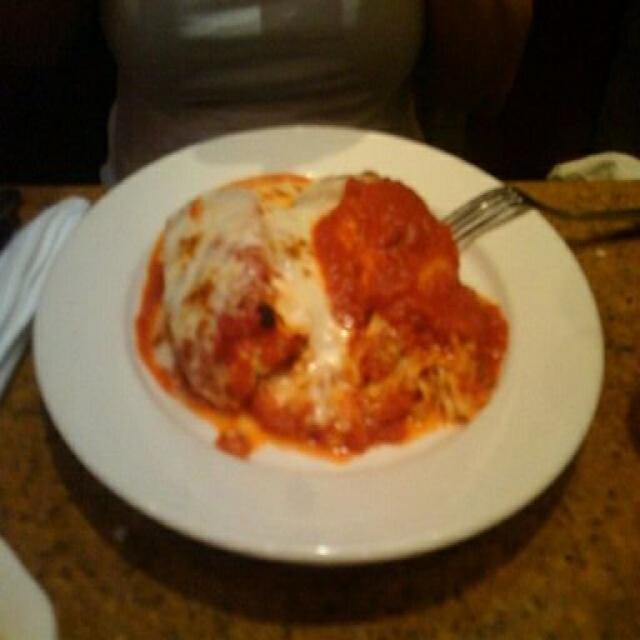Lasagna: (179, 180, 467, 444)
